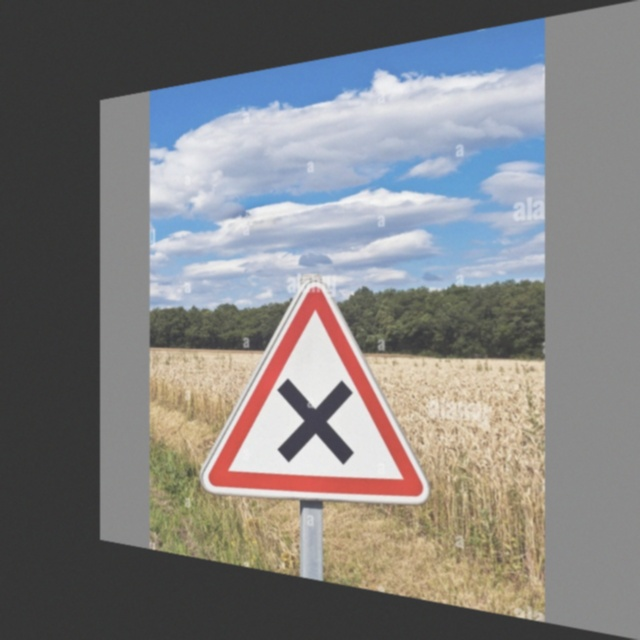Cross_Road: (210, 279, 429, 521)
